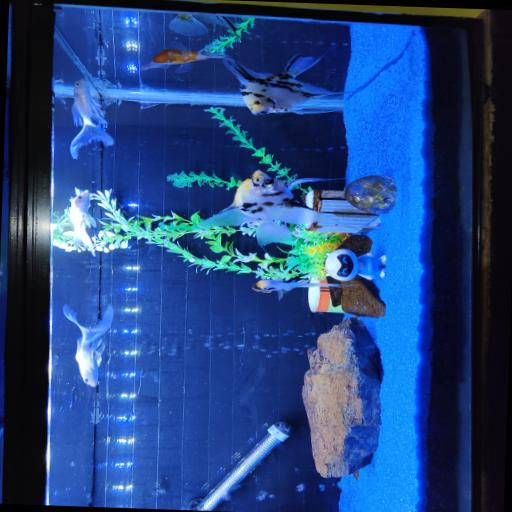Fish: (200, 170, 348, 246), (224, 53, 344, 115), (63, 305, 113, 387), (71, 79, 113, 159), (252, 276, 359, 299), (141, 49, 234, 71), (70, 188, 96, 255), (169, 14, 233, 36)
